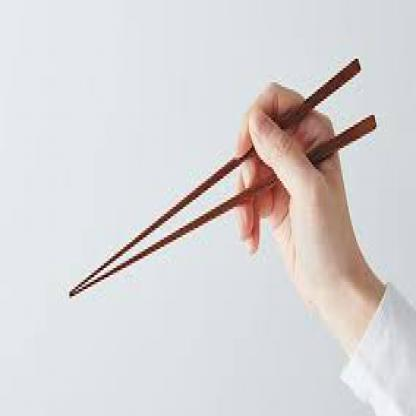chopstick: (67, 57, 362, 296), (70, 113, 380, 296)
